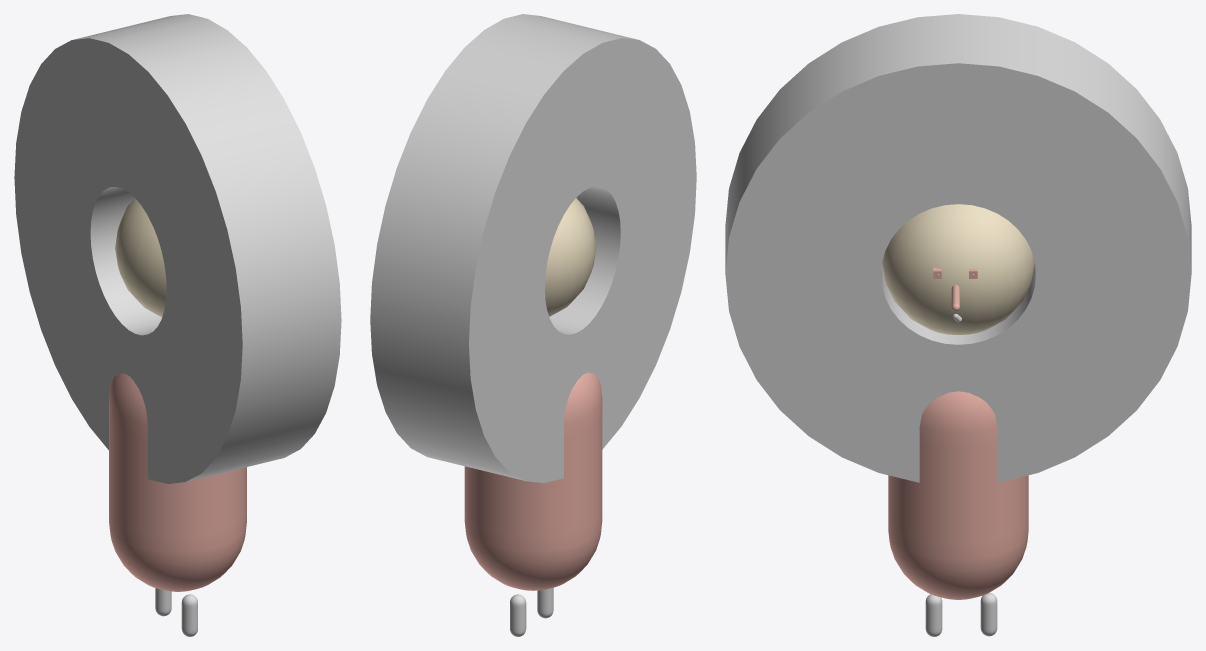
File: avatar3.glb
The picture shows the model from 3 angles, left to right: view 1: azimuth 30°, elevation 25°; view 2: azimuth 150°, elevation 25°; view 3: azimuth 270°, elevation 25°; orthographic projection. The views are drawn at different scales.
Visible parts, largest first — view 1: Tube, Capsule, head, leftleg; view 2: Tube, Capsule, head, rightleg, leftleg; view 3: Tube, Capsule, head, rightleg, leftleg.
Boxes of the visible parts, <box> form: Tube: <box>14,14,341,483</box>; Capsule: <box>109,373,246,591</box>; head: <box>115,198,166,317</box>; leftleg: <box>181,594,197,636</box>; Tube: <box>370,14,696,483</box>; Capsule: <box>464,372,602,590</box>; head: <box>545,198,596,316</box>; rightleg: <box>510,594,526,636</box>; leftleg: <box>537,587,553,618</box>; Tube: <box>725,14,1191,482</box>; Capsule: <box>888,391,1028,599</box>; head: <box>882,204,1034,334</box>; rightleg: <box>980,593,997,636</box>; leftleg: <box>925,594,942,636</box>.
Bounding box in the file's own units: 1.49 × 4.69 × 3.32.
